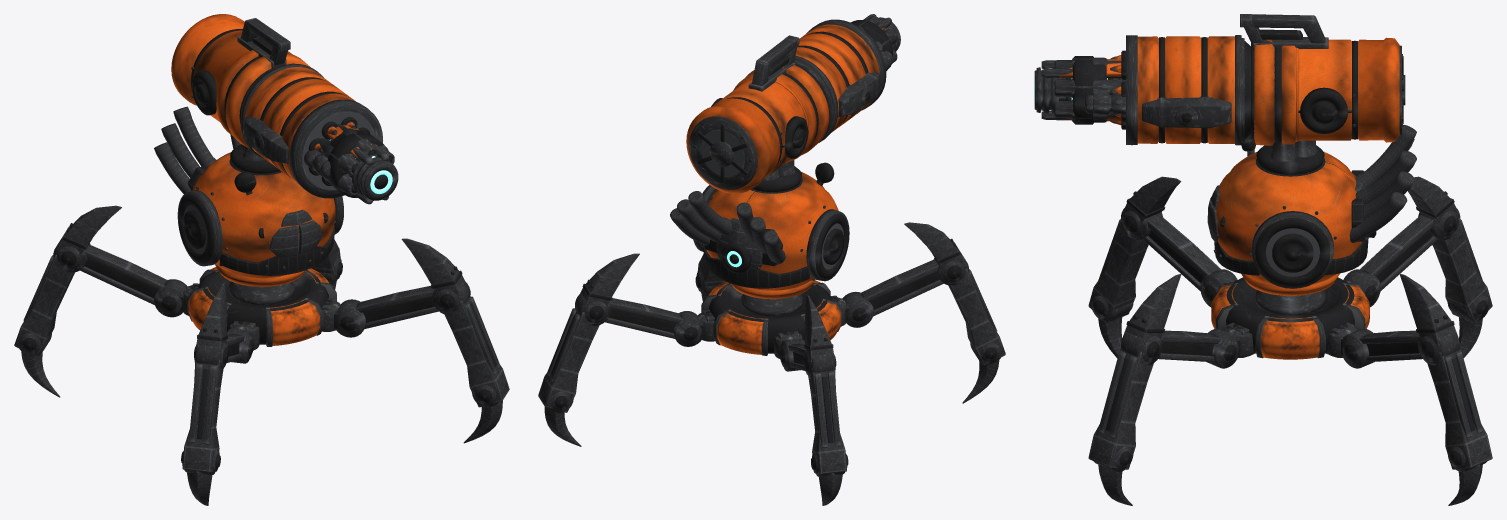
File: spider_turret.glb
3 renders of one model, left to right at view 1: azimuth 30°, elevation 25°; view 2: azimuth 150°, elevation 25°; view 3: azimuth 270°, elevation 25°, orthographic. The views are drawn at different scales.
Parts seen in each view (by area): view 1: Body_MainOrangeShell, Gatling_OrangeHousing, MissilePod_OrangeDrumCasing, MissilePod_FrontBlastCollar, Chassis_CoreDrum, LegTibiaShaft_FR, LegTibiaShaft_RL, Body_FrontChinBulkhead, LegTibiaShaft_FL, Body_SideLensDrum_Left, Chassis_OrangeArmor_3, LegKneeHorn_FR (+31 smaller); view 2: Gatling_OrangeHousing, Body_MainOrangeShell, MissilePod_OrangeDrumCasing, Gatling_RearBreechFlange, Chassis_CoreDrum, LegTibiaShaft_RR, LegTibiaShaft_FL, Body_RearWaistGuard, LegTibiaShaft_RL, Body_SideLensDrum_Left, Chassis_OrangeArmor_1, LegKneeHorn_RR (+29 smaller); view 3: Gatling_OrangeHousing, Body_MainOrangeShell, MissilePod_OrangeDrumCasing, Body_SideLensDrum_Right, Chassis_CoreDrum, LegTibiaShaft_FL, LegTibiaShaft_RL, LegTibiaShaft_FR, LegTibiaShaft_RR, Chassis_OrangeArmor_0, MissilePod_SideFairing_Right, Body_SideDrumCollar_Right (+50 smaller).
Part boxes in pixels (x1,y1,x2,y2): Body_MainOrangeShell: (192, 152, 335, 277); Gatling_OrangeHousing: (171, 14, 309, 148); MissilePod_OrangeDrumCasing: (245, 67, 355, 181); MissilePod_FrontBlastCollar: (289, 99, 382, 198); Chassis_CoreDrum: (197, 269, 328, 344); LegTibiaShaft_FR: (443, 296, 509, 407); LegTibiaShaft_RL: (14, 254, 74, 357); Body_FrontChinBulkhead: (219, 225, 334, 275); LegTibiaShaft_FL: (182, 359, 223, 472); Body_SideLensDrum_Left: (178, 195, 222, 263); Chassis_OrangeArmor_3: (270, 299, 319, 345); LegKneeHorn_FR: (401, 238, 464, 295); Gatling_OrangeHousing: (686, 65, 829, 193); Body_MainOrangeShell: (706, 172, 838, 290); MissilePod_OrangeDrumCasing: (795, 24, 879, 132); Gatling_RearBreechFlange: (689, 116, 757, 189); Chassis_CoreDrum: (708, 283, 832, 353); LegTibiaShaft_RR: (538, 307, 600, 412); LegTibiaShaft_FL: (948, 268, 1005, 365); Body_RearWaistGuard: (703, 245, 809, 288); LegTibiaShaft_RL: (808, 366, 846, 474); Body_SideLensDrum_Left: (806, 214, 849, 278); Chassis_OrangeArmor_1: (717, 311, 763, 354); LegKneeHorn_RR: (580, 253, 639, 307); Gatling_OrangeHousing: (1254, 37, 1399, 145); Body_MainOrangeShell: (1215, 151, 1361, 285); MissilePod_OrangeDrumCasing: (1137, 36, 1234, 143); Body_SideLensDrum_Right: (1255, 218, 1330, 286); Chassis_CoreDrum: (1226, 277, 1354, 352); LegTibiaShaft_FL: (1088, 217, 1148, 323); LegTibiaShaft_RL: (1432, 217, 1492, 323); LegTibiaShaft_FR: (1088, 348, 1154, 469); LegTibiaShaft_RR: (1427, 348, 1492, 469); Chassis_OrangeArmor_0: (1261, 317, 1319, 359); MissilePod_SideFairing_Right: (1142, 96, 1231, 128); Body_SideDrumCollar_Right: (1251, 211, 1334, 288).
Size of the model in its own units: 1.71 by 1.98 by 1.94.
Materials: 7 (5 with a texture image).
